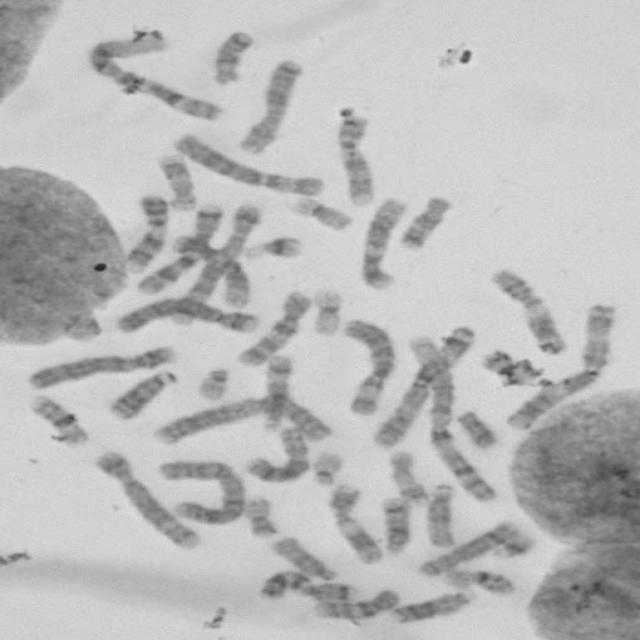A1: (402, 331, 502, 504), (82, 31, 225, 123)
A2: (146, 391, 336, 446), (156, 456, 247, 525)
A3: (498, 300, 620, 432), (366, 324, 477, 449)
B4: (20, 341, 178, 392), (109, 294, 259, 335)
B5: (163, 200, 266, 330), (92, 447, 203, 551)
C10: (232, 288, 315, 369), (309, 586, 403, 620)
C11: (486, 264, 568, 354), (324, 480, 386, 566)
C12: (167, 232, 252, 308), (354, 194, 410, 291)
C6: (168, 129, 329, 197), (336, 315, 399, 417)
C7: (133, 200, 226, 295), (256, 568, 360, 602)
C8: (413, 518, 522, 577), (238, 422, 312, 485)
C9: (332, 107, 378, 208), (120, 190, 170, 274)
D13: (103, 366, 181, 422), (386, 585, 479, 624)
D14: (257, 350, 294, 430), (375, 493, 413, 556)
D15: (267, 533, 340, 582), (422, 479, 458, 549)
E16: (25, 391, 90, 447), (440, 564, 520, 597)
E17: (153, 150, 198, 212), (386, 446, 430, 504)
E18: (395, 193, 453, 250), (208, 26, 258, 86)
F19: (286, 192, 355, 232), (308, 285, 345, 338)
F20: (477, 347, 538, 386), (241, 494, 280, 537)
G21: (238, 232, 305, 261), (488, 530, 538, 560)
G22: (192, 363, 232, 401), (308, 448, 345, 486)
X: (233, 56, 305, 154)
Y: (452, 406, 499, 448)
